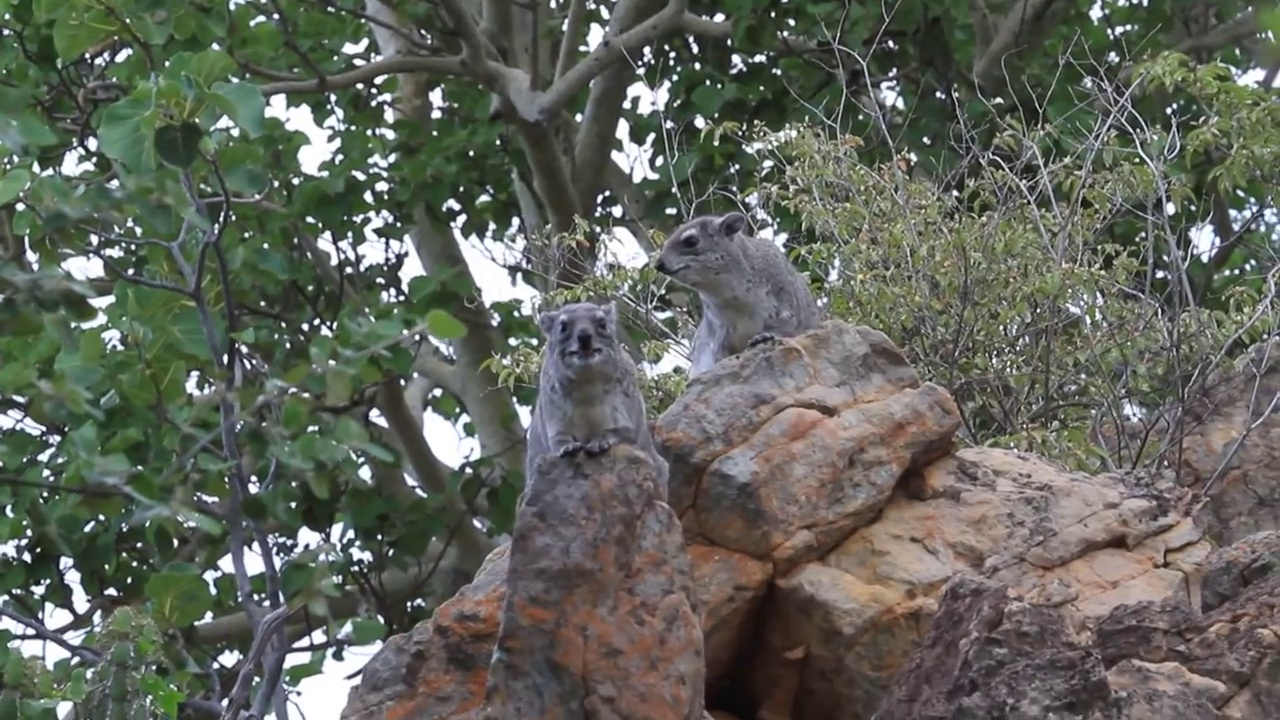Rock Hyrex: (653, 210, 824, 397), (521, 298, 673, 505)
